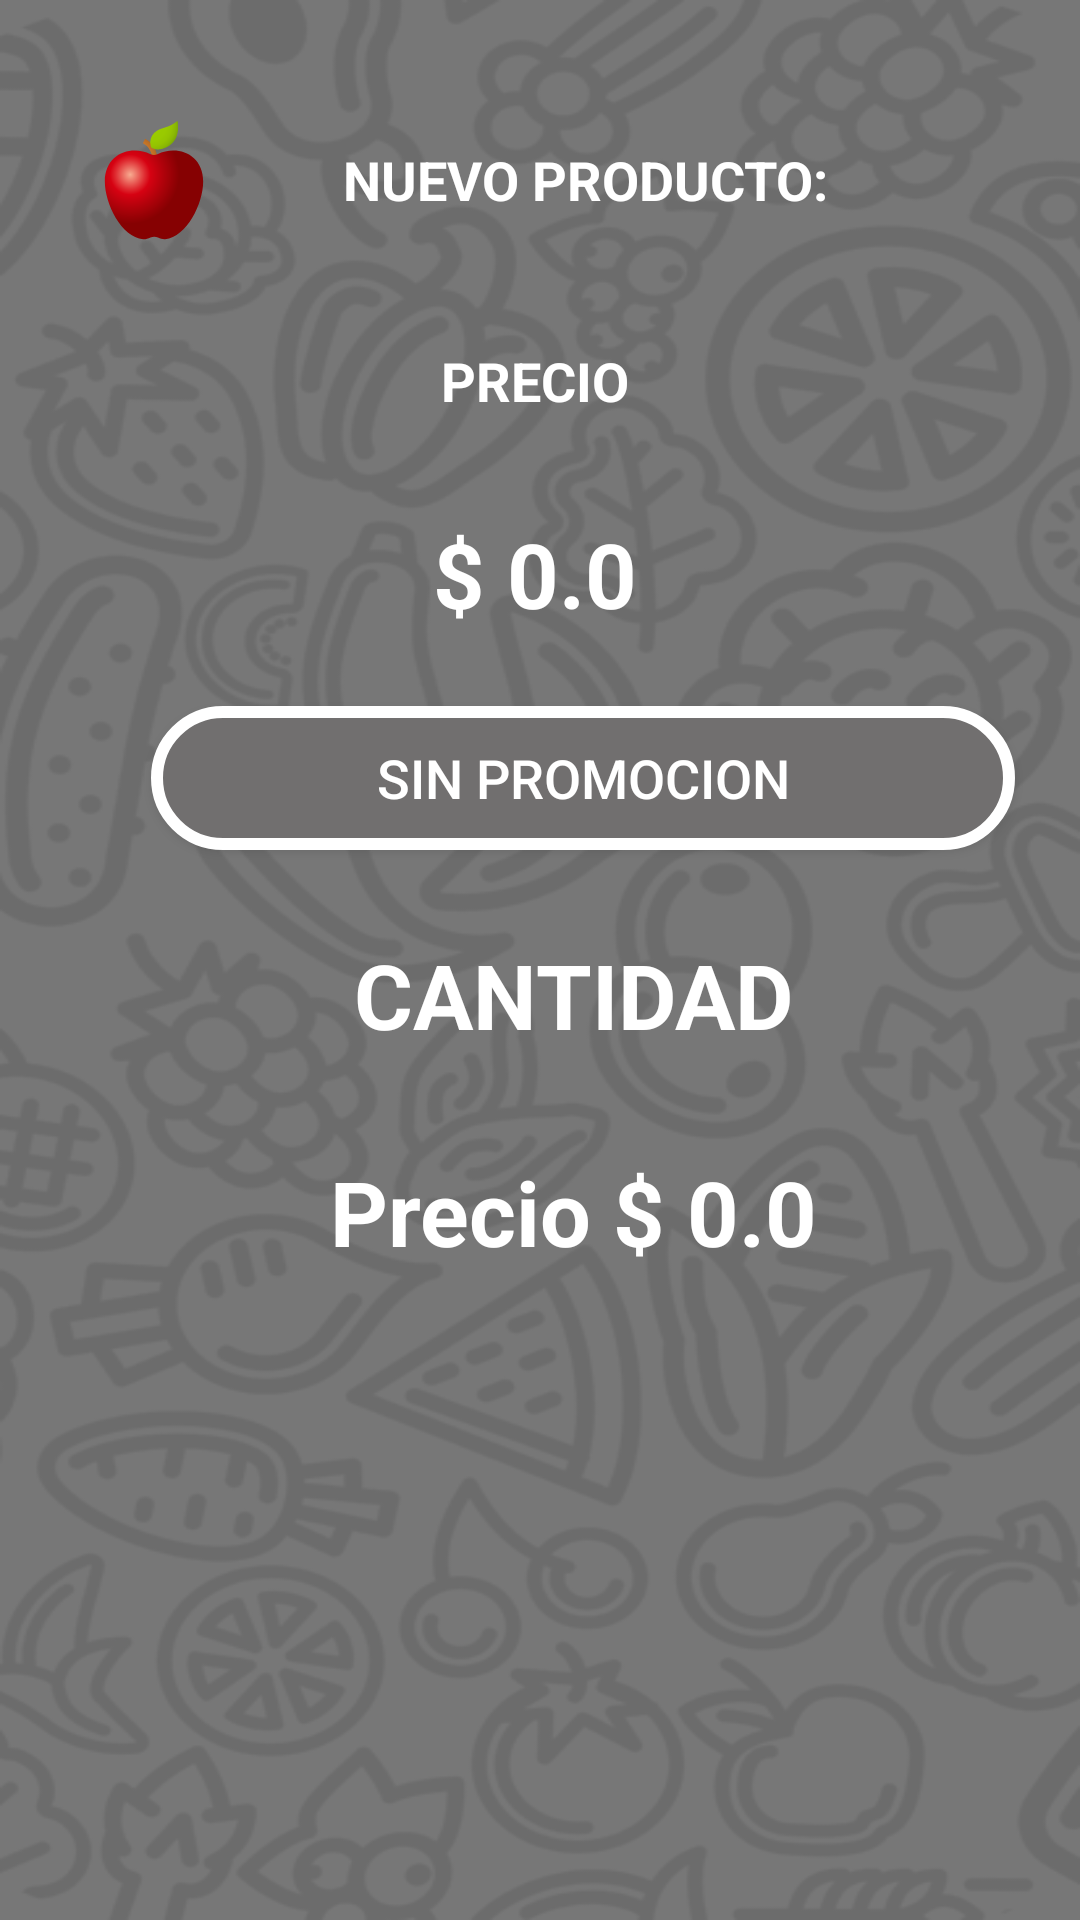

Icon bounding boxes for this 1080 × 1920 phone screenshot, format (x1, y1, x2, y2):
apple: (105, 121, 204, 240)
